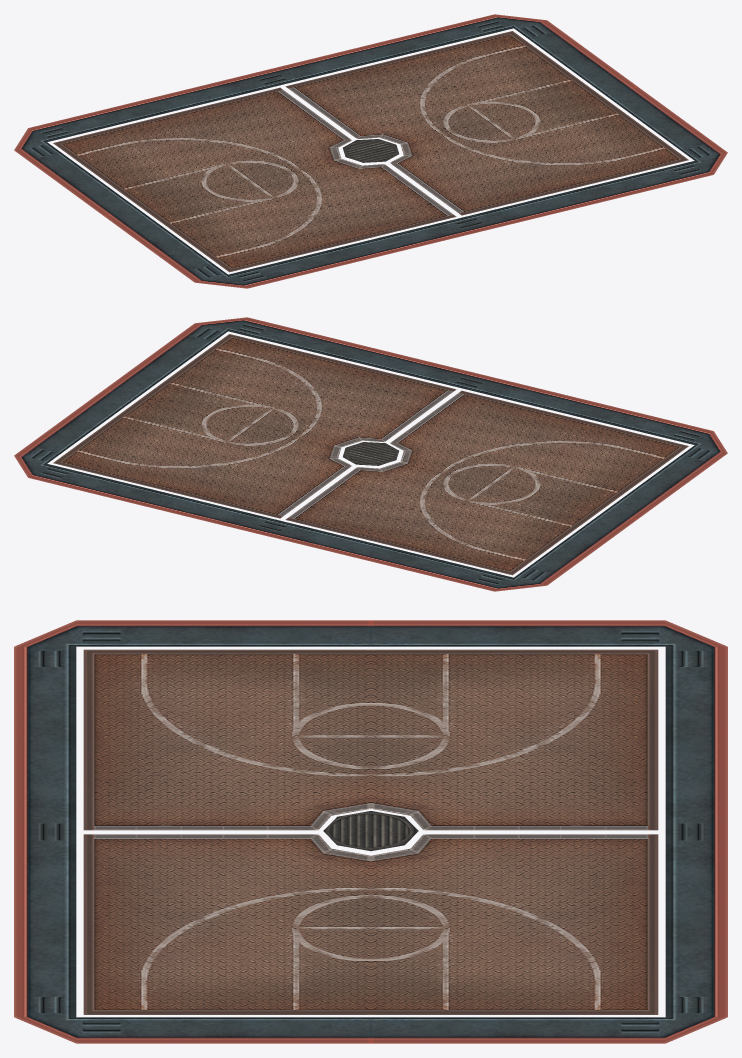
The model's file is S0_Train_CourtFloor.FBX.
The picture shows the model from 3 angles, top to bottom: view 1: azimuth 30°, elevation 25°; view 2: azimuth 150°, elevation 25°; view 3: azimuth 270°, elevation 25°; orthographic projection. The views are drawn at different scales.
Visible parts, largest first — view 1: S0_Train_CourtFloor; view 2: S0_Train_CourtFloor; view 3: S0_Train_CourtFloor.
Boxes of the visible parts, x1,y1,x2,y2 form: S0_Train_CourtFloor: (14, 14, 727, 288); S0_Train_CourtFloor: (14, 317, 727, 591); S0_Train_CourtFloor: (14, 620, 727, 1043).
Bounding box in the file's own units: 4000 × 2850 × 5.13.
